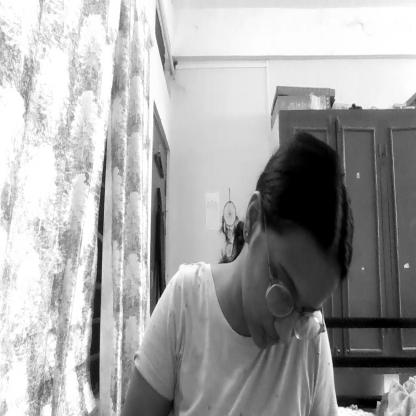Distracted: (240, 129, 354, 364)
